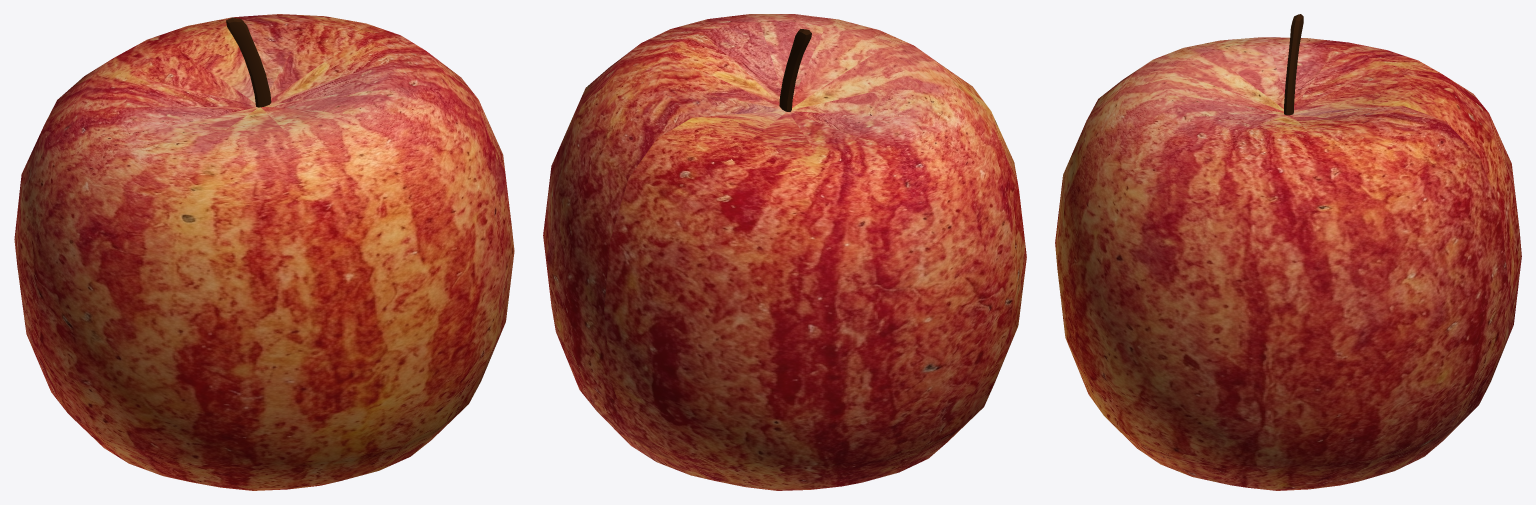
The model's file is apple2.glb.
3 views of the same model, side by side, from view 1: azimuth 30°, elevation 25°; view 2: azimuth 150°, elevation 25°; view 3: azimuth 270°, elevation 25° (orthographic). The views are drawn at different scales.
Visible parts, largest first — view 1: AppleBody.001; view 2: AppleBody.001; view 3: AppleBody.001.
Part boxes in pixels (box(x1,y1,x2,y2)): AppleBody.001: box(14, 14, 514, 490); AppleBody.001: box(543, 14, 1026, 490); AppleBody.001: box(1055, 14, 1521, 490).
Bounding box in the file's own units: 0.2769 × 0.2621 × 0.2668.
2 materials, 1 textured.
